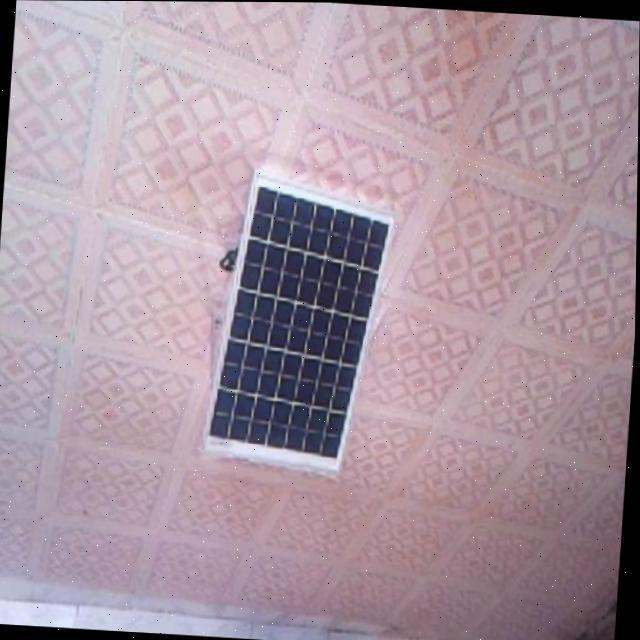Normal Solar Panel: (204, 167, 396, 478)
